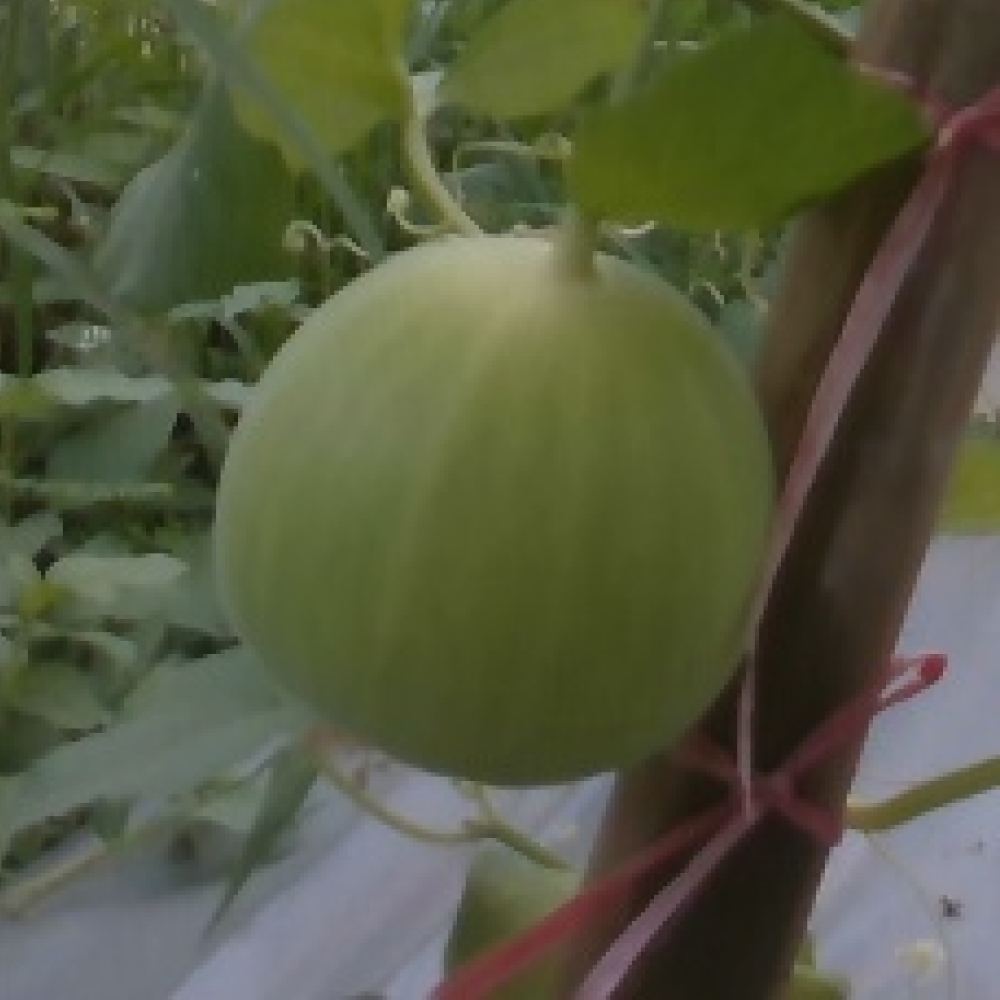melon: (207, 232, 782, 791)
